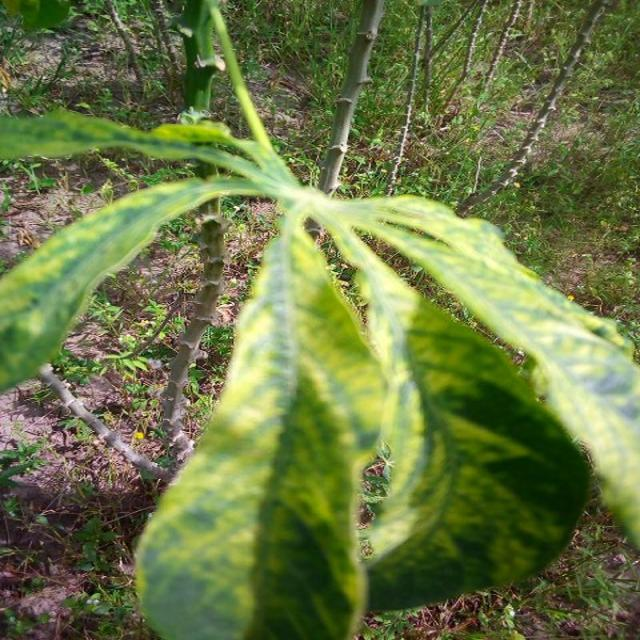cassava leaf: (133, 209, 386, 638), (358, 276, 592, 614)
